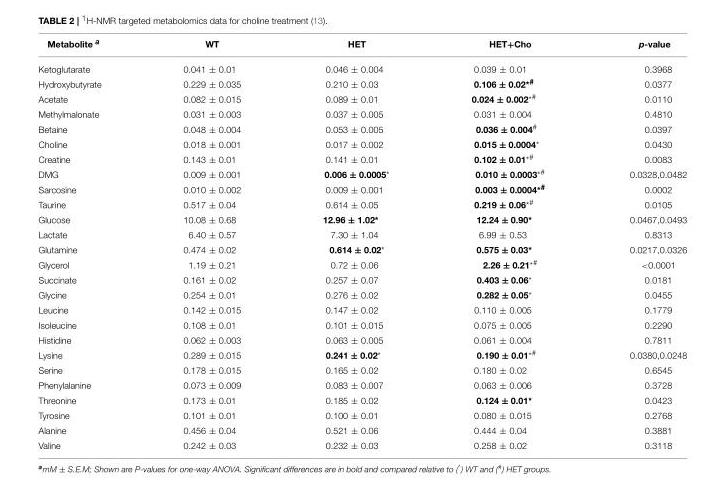table: (37, 37, 686, 449)
table column: (429, 37, 586, 449), (281, 37, 429, 449), (141, 37, 281, 449), (37, 37, 141, 449), (586, 37, 686, 449)
table column header: (37, 37, 686, 56)
table row: (37, 37, 686, 56), (37, 56, 686, 75), (37, 195, 686, 212), (37, 90, 686, 106), (37, 120, 686, 136), (37, 256, 686, 272), (37, 346, 686, 362), (37, 75, 686, 90), (37, 150, 686, 165), (37, 165, 686, 180), (37, 180, 686, 195), (37, 212, 686, 227), (37, 227, 686, 242), (37, 272, 686, 287), (37, 287, 686, 302), (37, 302, 686, 317), (37, 317, 686, 332), (37, 362, 686, 377), (37, 377, 686, 392), (37, 392, 686, 407), (37, 407, 686, 422), (37, 422, 686, 437), (37, 106, 686, 120), (37, 136, 686, 150), (37, 242, 686, 256), (37, 332, 686, 346), (37, 437, 686, 449)
